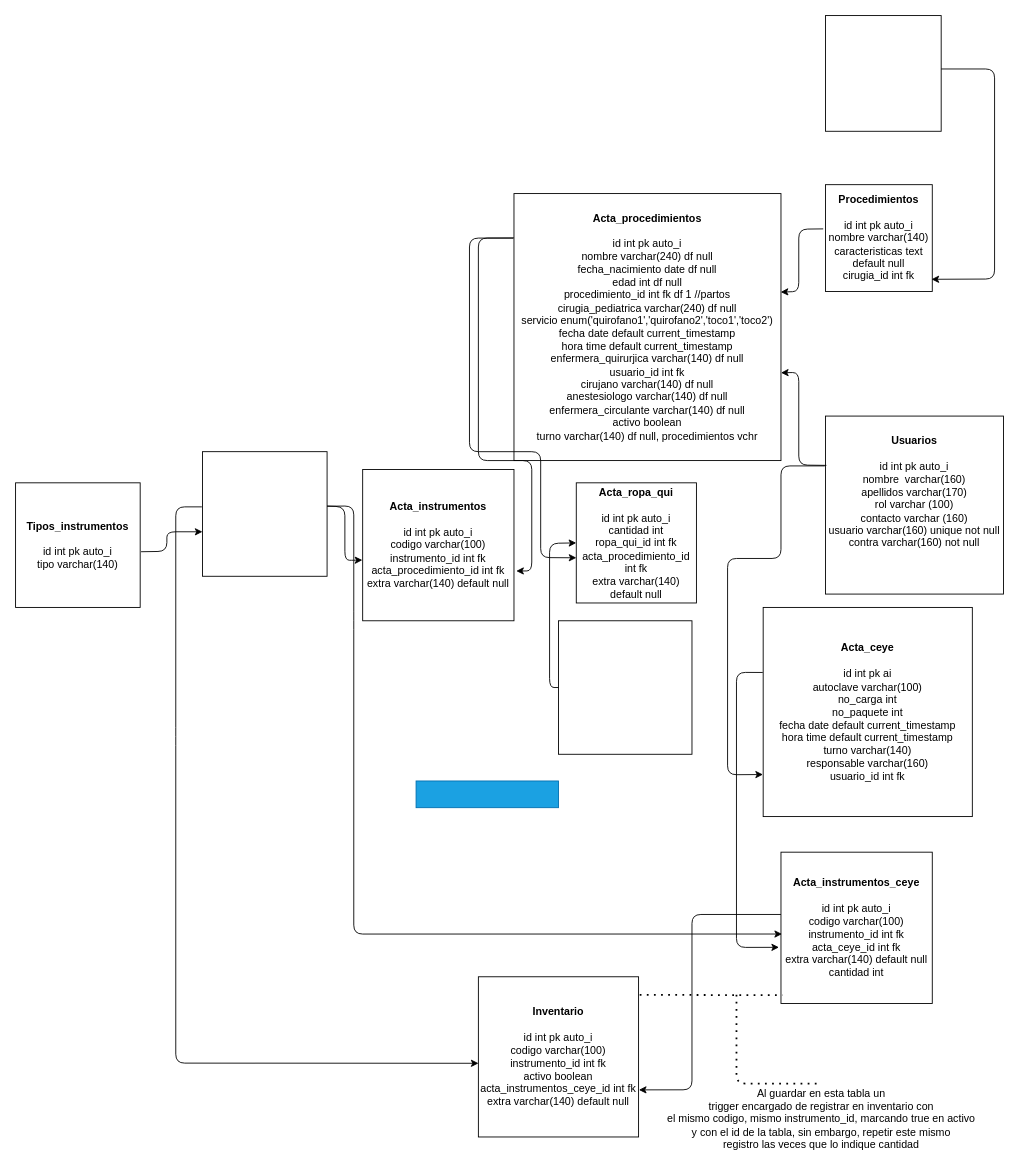
This 1019x1170 diagram has some shape labels left out. Here are the shapes that lost their labels. From the top down, the centre of each, then its label:
At (883,73): "Cirugias id int pk auto_i nombre varchar(140) caracteristicas text default null".
At (264,513): "Instrumentos id int pk auto_i nombre varchar(140) tipo_instrumento_id int fk".
At (625,687): "Ropa_qui id int pk auto_i tipo_bulto varchar(140)".
At (486,794): "ropa_qui: ropa quirúrgica".
